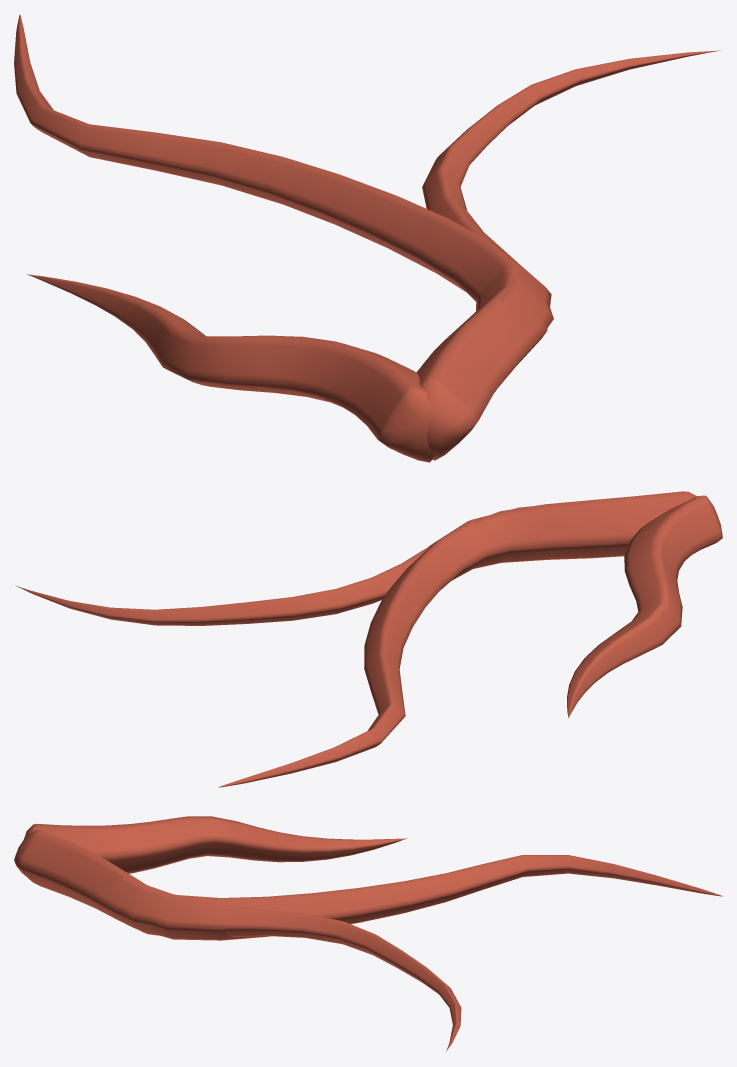
The model's file is fan2 curves.fbx.
The picture shows the model from 3 angles, top to bottom: view 1: azimuth 30°, elevation 25°; view 2: azimuth 150°, elevation 25°; view 3: azimuth 270°, elevation 25°; orthographic projection. The views are drawn at different scales.
Visible parts, largest first — view 1: fan2_curve1, fan2_curve3, fan2_curve2; view 2: fan2_curve2, fan2_curve1, fan2_curve3; view 3: fan2_curve1, fan2_curve2, fan2_curve3.
Boxes of the visible parts, left/top/right/bottom form: fan2_curve1: left=14, top=14, right=551, bottom=386; fan2_curve3: left=27, top=274, right=433, bottom=462; fan2_curve2: left=416, top=50, right=721, bottom=460; fan2_curve2: left=15, top=491, right=696, bottom=625; fan2_curve1: left=218, top=506, right=530, bottom=787; fan2_curve3: left=567, top=495, right=722, bottom=717; fan2_curve1: left=63, top=855, right=722, bottom=940; fan2_curve2: left=14, top=830, right=461, bottom=1051; fan2_curve3: left=24, top=816, right=406, bottom=873.
Size of the model in its own units: 17.65 by 2.04 by 22.85.
